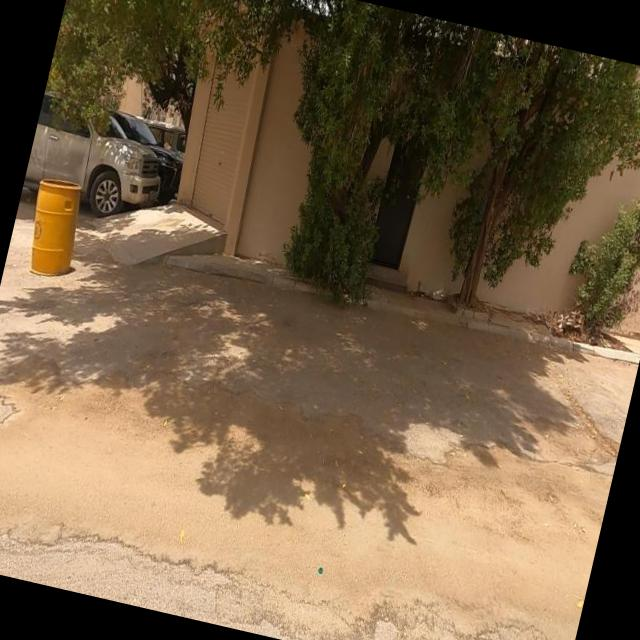debris: (493, 255, 625, 389), (392, 241, 483, 354)
